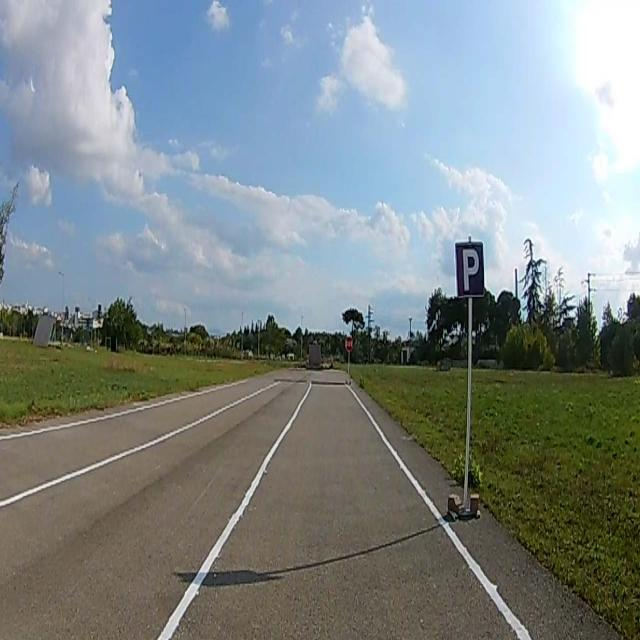park: (454, 245, 482, 295)
